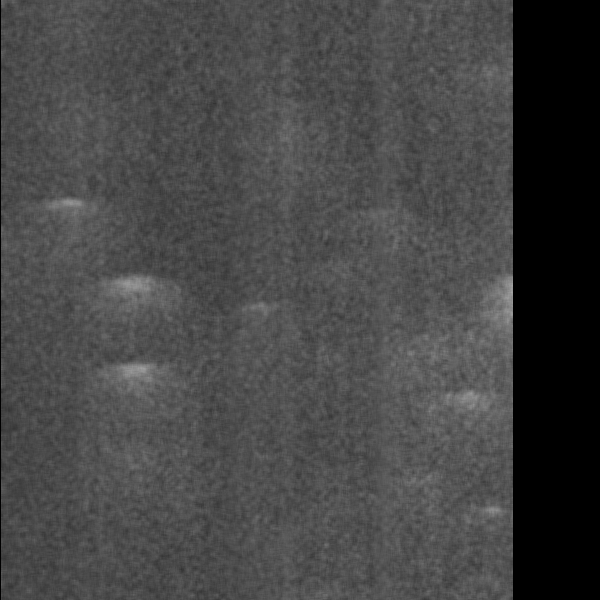spark: (450, 178, 520, 282), (265, 89, 313, 156), (476, 460, 511, 523), (277, 264, 320, 314), (285, 556, 323, 600), (384, 352, 419, 398), (394, 143, 429, 189), (459, 552, 499, 586), (365, 558, 409, 588), (16, 296, 40, 334), (23, 18, 42, 54)
